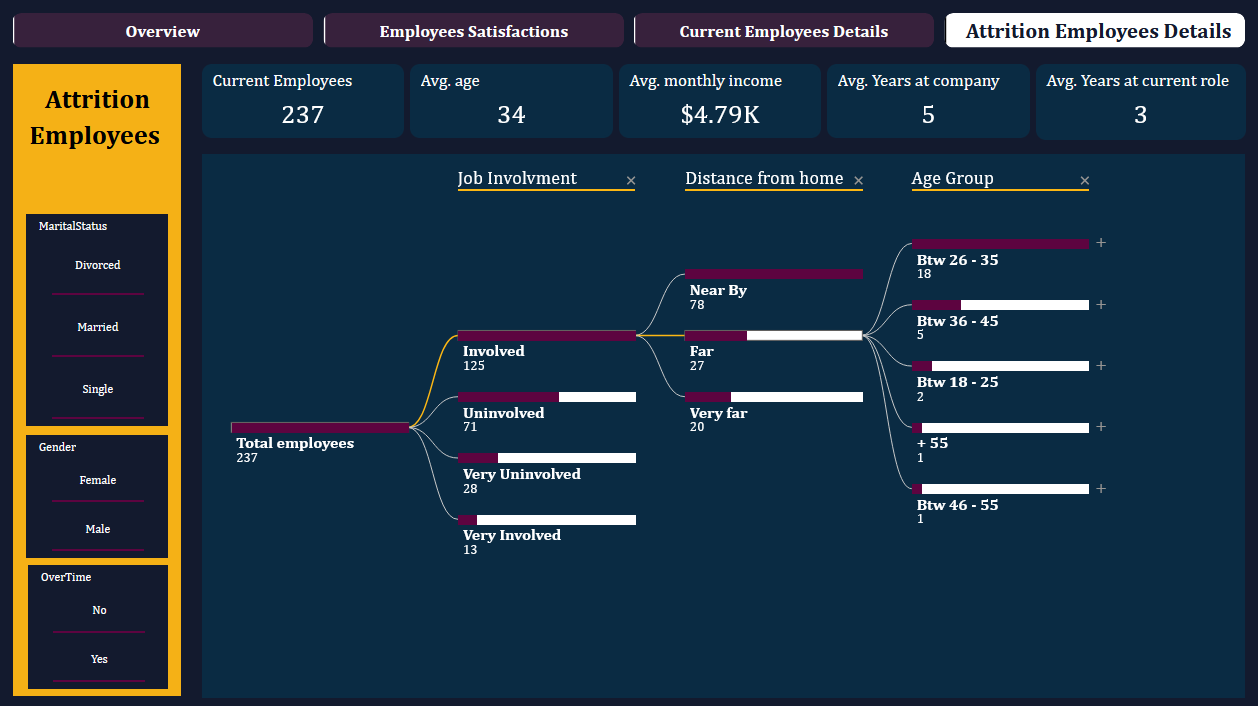

What the dashboard file says about the page in this screenshot:
{"tool":"powerbi","page":{"name":"Attrition Employees Details","canvas":[1280,720],"ordinal":3},"visuals":[{"type":"shape","box":[13,66.7,170.8,639.2],"z":0},{"type":"slicer","fields":{"Values":["HR-Employee-Attrition.MaritalStatus"]},"box":[27.7,218,143.1,214.7],"z":1000},{"type":"card","title":"Current Employees","fields":{"Values":["_Measures.Attrition Employees"]},"box":[204.9,67.4,204.9,74.8],"z":2000},{"type":"card","title":"Avg. monthly income","fields":{"Values":["_Measures.Avg. monthly income"]},"box":[626,67.4,205,75],"z":3000},{"type":"card","title":"Avg. Years at company","fields":{"Values":["_Measures.Avg. Years at company"]},"box":[836.6,67.4,205,75],"z":4000},{"type":"card","title":"Avg. Years at current role","fields":{"Values":["_Measures.Avg. Years at current role"]},"box":[1047.5,66.7,213.1,76.4],"z":5000},{"type":"card","title":"Avg. age","fields":{"Values":["_Measures.Avg. age"]},"box":[415.5,67.4,205,75],"z":6000},{"type":"textbox","box":[14.6,79.7,169.2,43.9],"z":7000},{"type":"textbox","box":[14.6,117.1,169.2,52],"z":8000},{"type":"pageNavigator","box":[13.6,14.5,1248.2,35.5],"z":9000},{"type":"decompositionTreeVisual","fields":{"ExplainBy":["HR-Employee-Attrition.Job Involvment","HR-Employee-Attrition.Distance from home","HR-Employee-Attrition.Age Group","HR-Employee-Attrition.Relationship Satisfaction","HR-Employee-Attrition.WorkLife Balance ","HR-Employee-Attrition.EducationField","HR-Employee-Attrition.Environment Satisfaction ","HR-Employee-Attrition.Job Satisfaction","HR-Employee-Attrition.JobRole","HR-Employee-Attrition.Department","HR-Employee-Attrition.YearsAtCompany","HR-Employee-Attrition.Performance Rating "],"Analyze":["_Measures.Total emplyees"]},"box":[204.9,157.8,1055.6,549.8],"z":10000},{"type":"slicer","fields":{"Values":["HR-Employee-Attrition.Gender"]},"box":[27.7,440.7,143.1,125.2],"z":11000},{"type":"slicer","fields":{"Values":["HR-Employee-Attrition.OverTime"]},"box":[28.8,573.9,142.3,125.7],"z":11001}]}

Visuals, with their boxes in screenshot pixels (x1, y1, x2, y2), scaled from the page's 1280x720 canvas onto the 1258x706 screenshot:
shape: {"left": 13, "top": 65, "right": 181, "bottom": 692}
slicer - HR-Employee-Attrition.MaritalStatus: {"left": 27, "top": 214, "right": 168, "bottom": 424}
"Current Employees" card: {"left": 201, "top": 66, "right": 403, "bottom": 139}
"Avg. monthly income" card: {"left": 615, "top": 66, "right": 817, "bottom": 140}
"Avg. Years at company" card: {"left": 822, "top": 66, "right": 1024, "bottom": 140}
"Avg. Years at current role" card: {"left": 1029, "top": 65, "right": 1239, "bottom": 140}
"Avg. age" card: {"left": 408, "top": 66, "right": 610, "bottom": 140}
textbox: {"left": 14, "top": 78, "right": 181, "bottom": 121}
textbox: {"left": 14, "top": 115, "right": 181, "bottom": 166}
pageNavigator: {"left": 13, "top": 14, "right": 1240, "bottom": 49}
decompositionTreeVisual - HR-Employee-Attrition.Job Involvment x HR-Employee-Attrition.Distance from home: {"left": 201, "top": 155, "right": 1239, "bottom": 694}
slicer - HR-Employee-Attrition.Gender: {"left": 27, "top": 432, "right": 168, "bottom": 555}
slicer - HR-Employee-Attrition.OverTime: {"left": 28, "top": 563, "right": 168, "bottom": 686}
